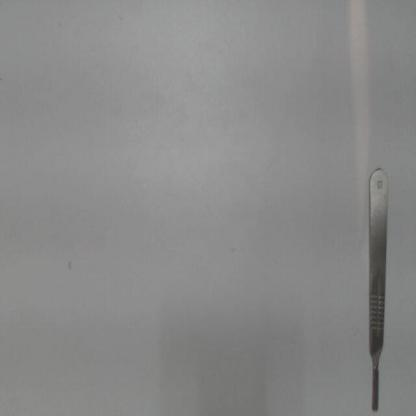No.4 BP Handle: (362, 160, 394, 414)
